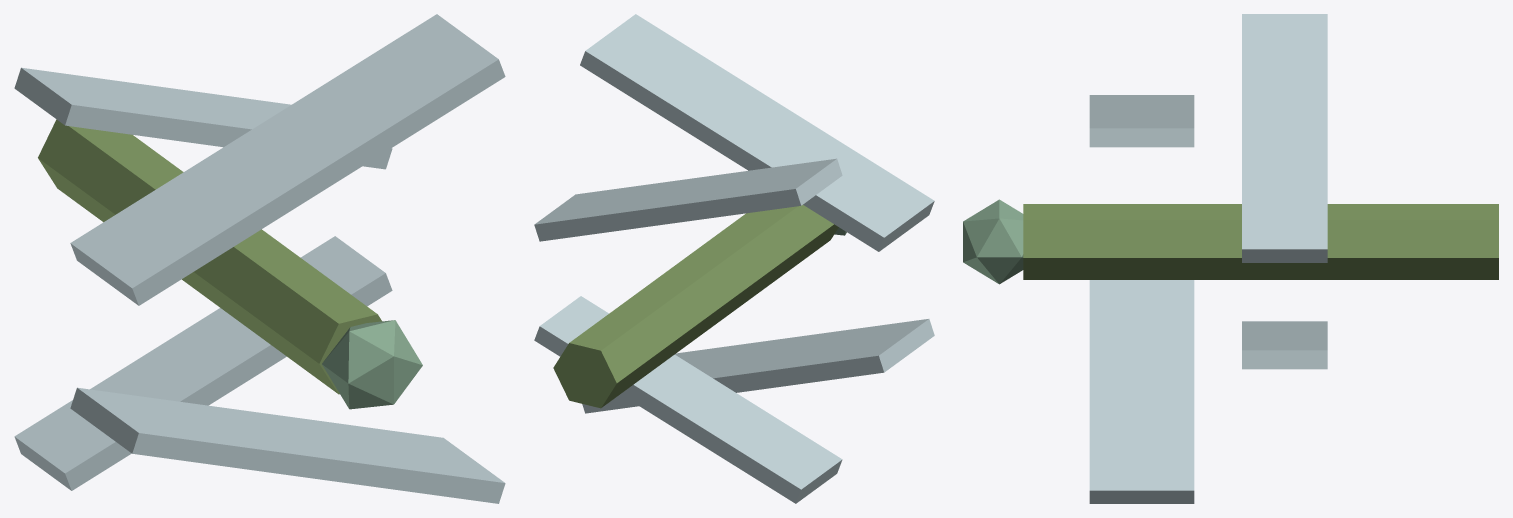
File: dragonfly.glb
3 views of the same model, side by side, from view 1: azimuth 30°, elevation 25°; view 2: azimuth 150°, elevation 25°; view 3: azimuth 270°, elevation 25° (orthographic). The views are drawn at different scales.
Visible parts, largest first — view 1: world; view 2: world; view 3: world.
Part boxes in pixels (x1,y1,x2,y2): world: (14,14,505,503); world: (534,14,934,503); world: (963,14,1498,503).
Bounding box in the file's own units: 0.7654 × 0.8712 × 1.13.
